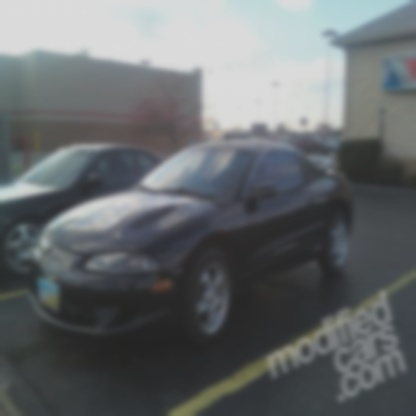Vehicle: (32, 147, 354, 334)
